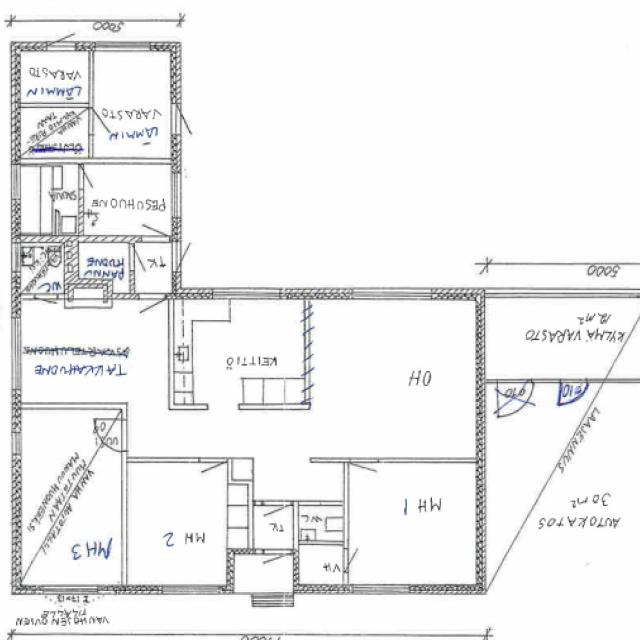door: (46, 9, 76, 52), (172, 103, 210, 134), (92, 419, 128, 451), (262, 500, 292, 537), (264, 548, 292, 584), (351, 457, 379, 492), (171, 243, 207, 270), (142, 206, 169, 242), (560, 379, 588, 413), (139, 294, 166, 328), (129, 244, 160, 272), (79, 165, 110, 192), (200, 458, 225, 490), (89, 110, 118, 136), (35, 294, 58, 323), (344, 548, 371, 572)
